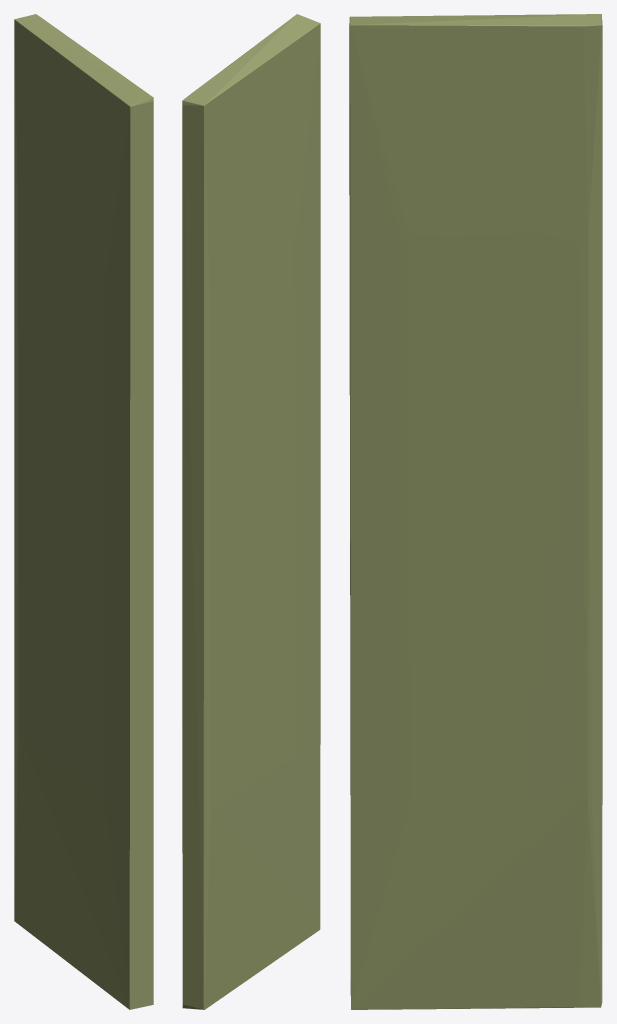
The model's file is blinds_window_2m_closed_a01.glb.
3 views of the same model, side by side, from view 1: azimuth 30°, elevation 25°; view 2: azimuth 150°, elevation 25°; view 3: azimuth 270°, elevation 25° (orthographic). The views are drawn at different scales.
Visible parts, largest first — view 1: geometry_0; view 2: geometry_0; view 3: geometry_0.
Part boxes in pixels (<box>): geometry_0: <box>14,14,153,1009</box>; geometry_0: <box>182,14,320,1009</box>; geometry_0: <box>349,14,602,1009</box>.
Size of the model in its own units: 0.0143 by 0.4796 by 0.1119.
